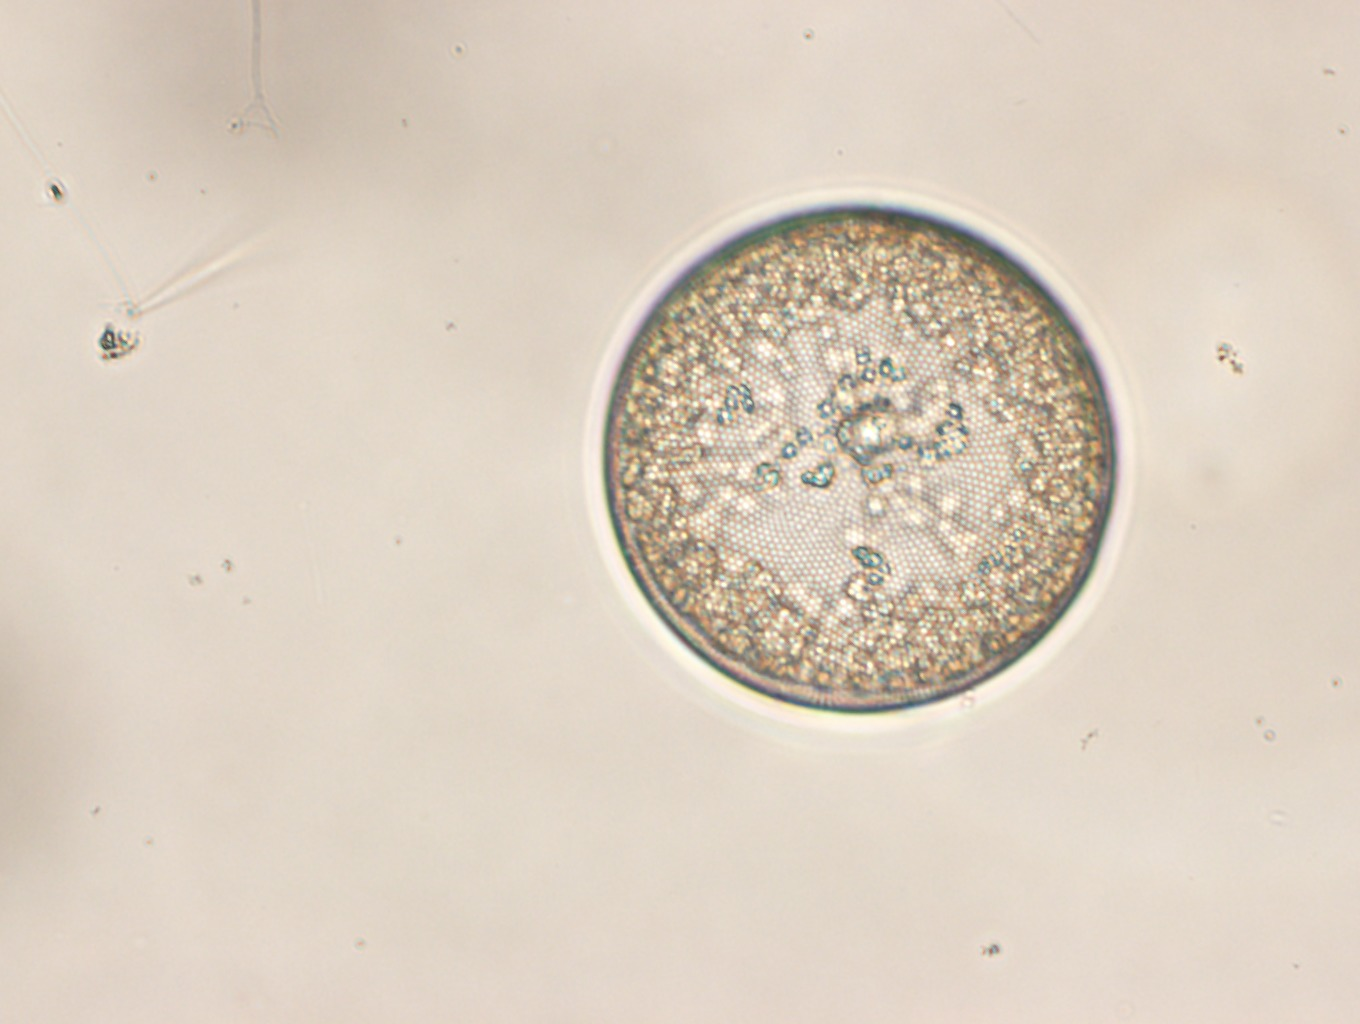coscinodiscus: (596, 198, 1122, 719)
